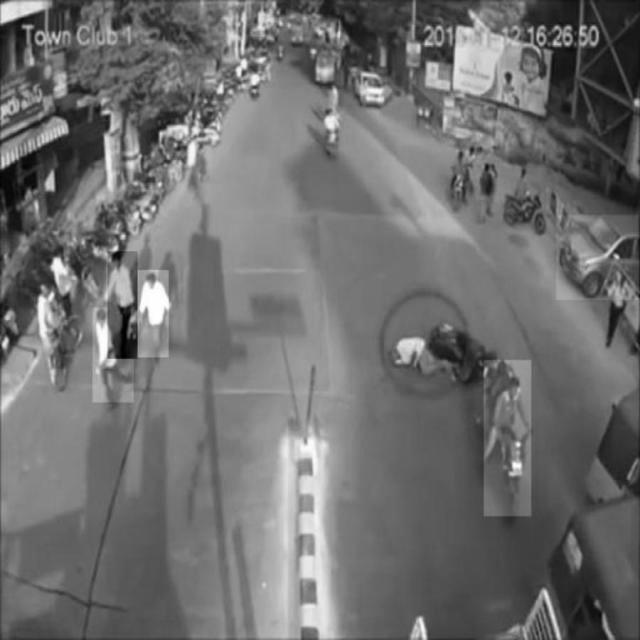person: (93, 308, 134, 402), (108, 251, 138, 359), (136, 270, 168, 358)
vehicle: (484, 360, 531, 516), (556, 216, 638, 300)
